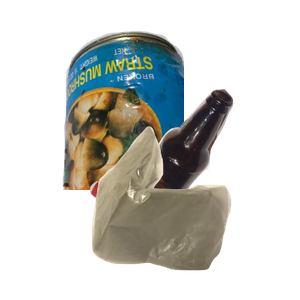glass: (130, 87, 300, 267)
metal: (60, 28, 300, 208)
plastic: (87, 178, 234, 300)
trash: (89, 124, 300, 300)
